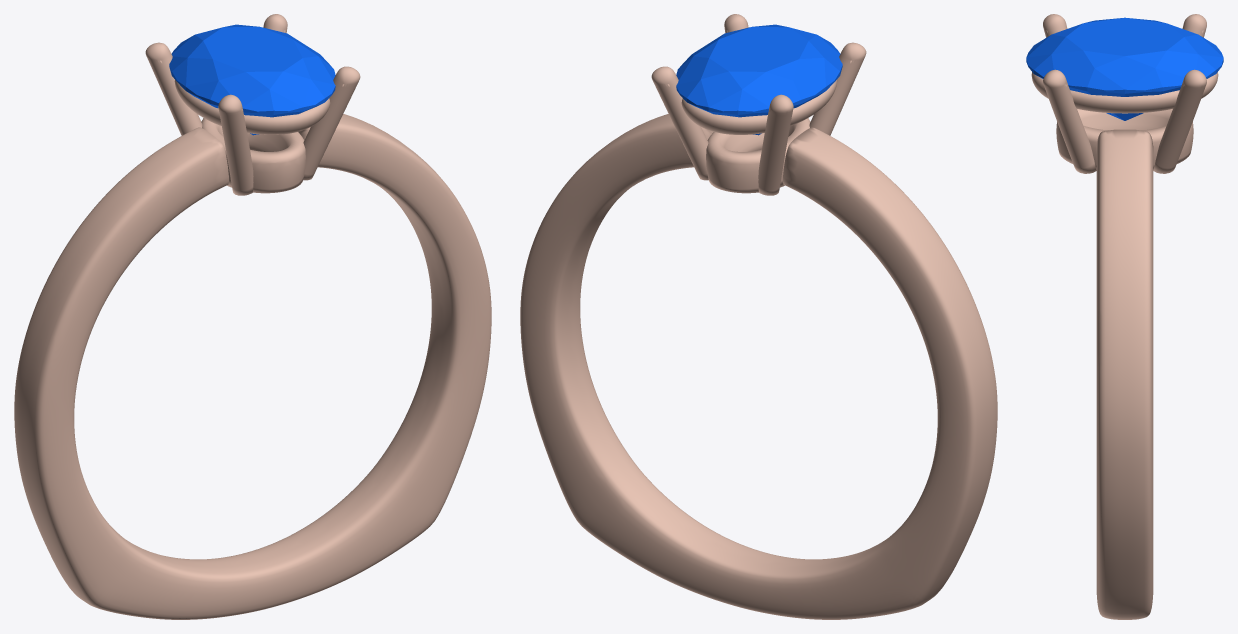
File: bluesapphire-oval-rosegold-4prong-europeanshank-nosidestones.glb
The picture shows the model from 3 angles, left to right: view 1: azimuth 30°, elevation 25°; view 2: azimuth 150°, elevation 25°; view 3: azimuth 270°, elevation 25°; orthographic projection.
Visible parts, largest first — view 1: metal, stone; view 2: metal, stone; view 3: metal, stone.
Boxes of the visible parts, box(x1,y1,x2,y2) form: metal: box(14, 14, 491, 619); stone: box(169, 24, 335, 135); metal: box(520, 14, 997, 619); stone: box(676, 24, 842, 135); metal: box(1031, 14, 1218, 619); stone: box(1026, 17, 1223, 120).
Bounding box in the file's own units: 20.11 × 23.21 × 7.64.
